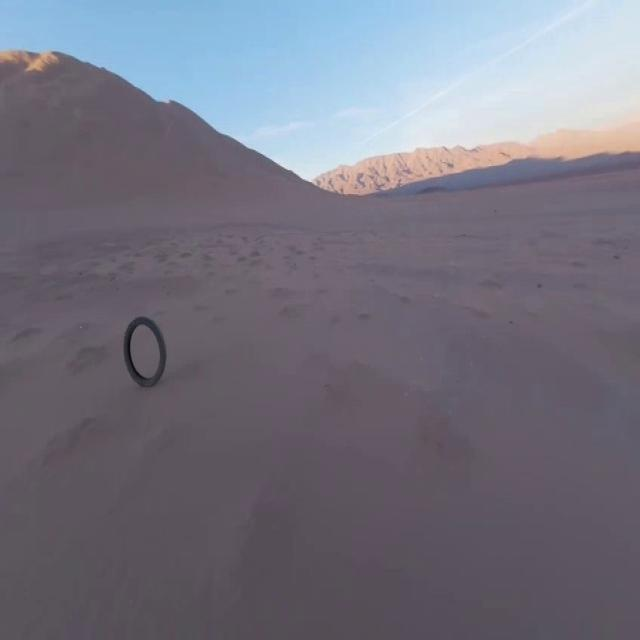Tire: (124, 317, 165, 386)
